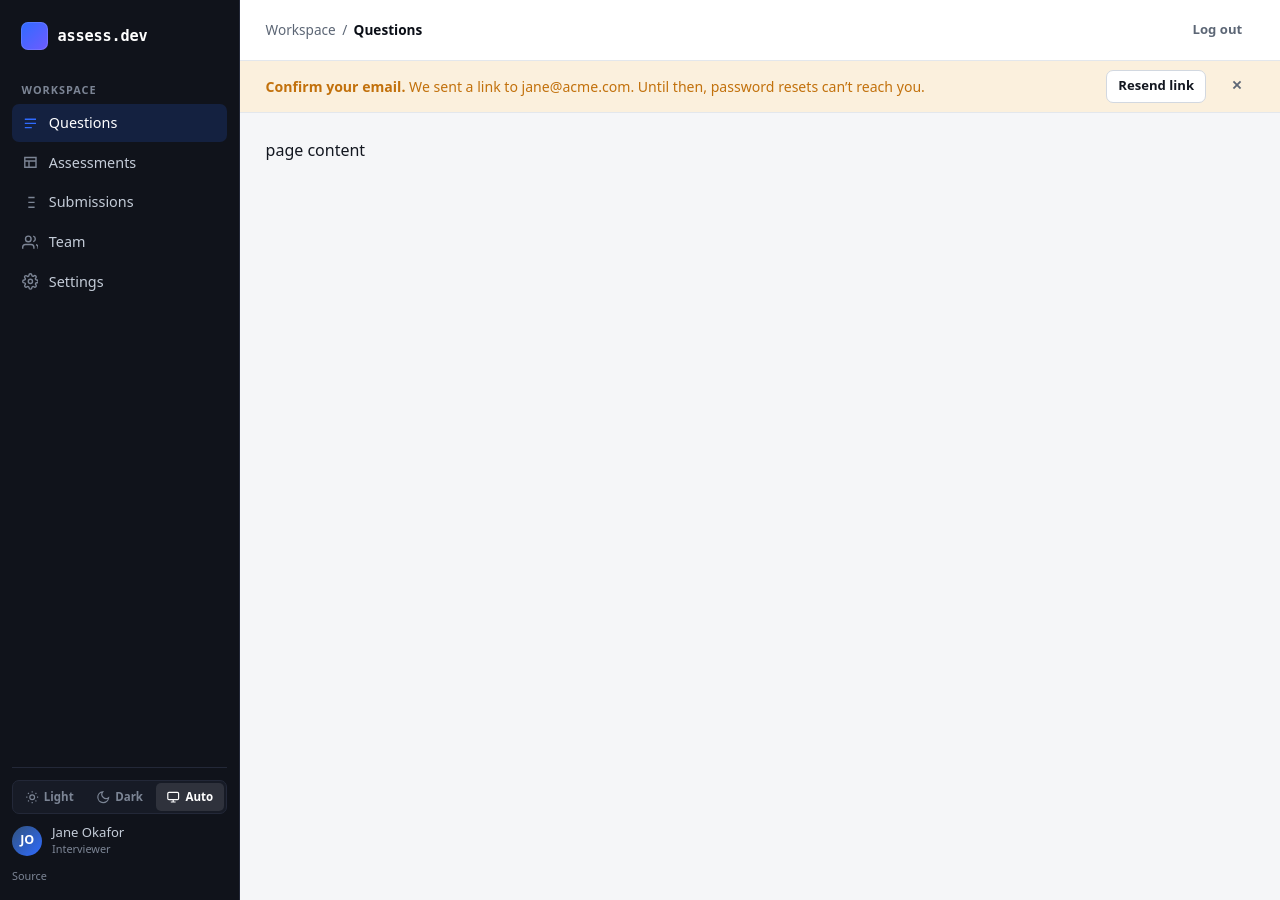
Scenario: AppLayout › swaps to the sent state after resending the link
Click the button "Resend link": click(1156, 86) [1106, 70, 1206, 103]
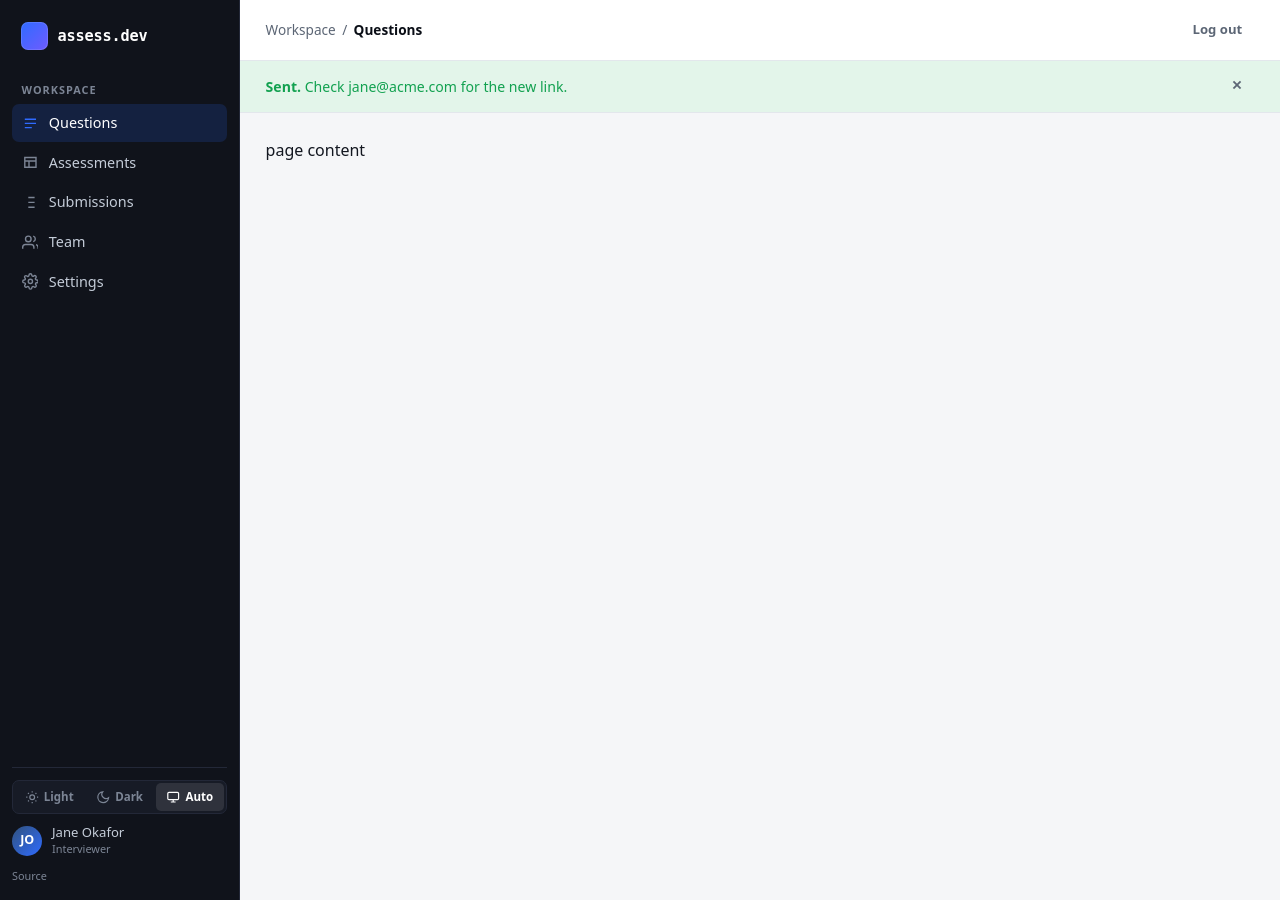
Now the text "Sent. Check jane@acme.com for the new link." is shown, box [266, 76, 567, 97]
Now the text "Confirm your email" is gone
Now the button "Resend link" is gone
